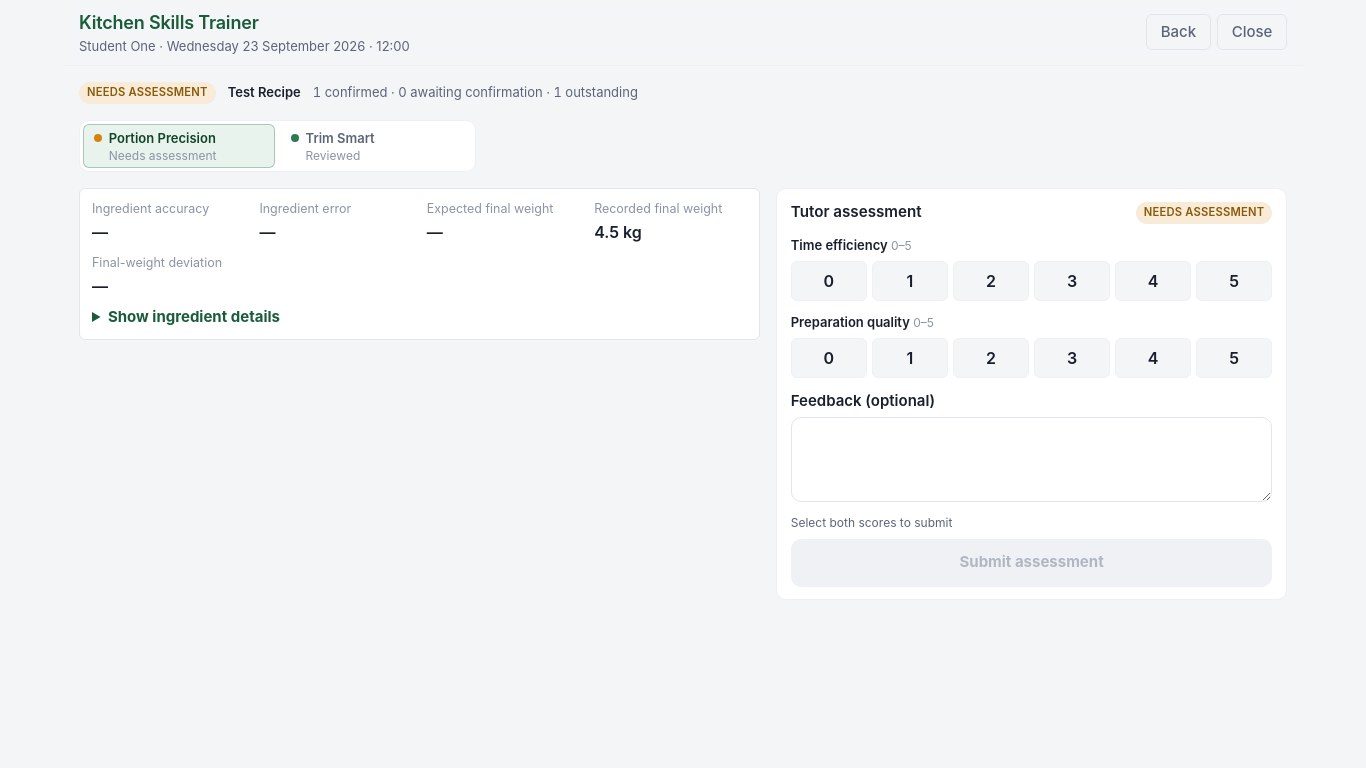
Scenario: Kitchen Day module chef review › shows an existing review read-only instead of creating another
This screenshot has width=1366, height=768.
Check: the element with test id "kitchen-day-review-portionPrecision-form" is shown, box [776, 188, 1287, 600]
Click the tab with test id "kitchen-day-tutor-module-tab-trimSmart" at (376, 146), box [280, 124, 472, 168]
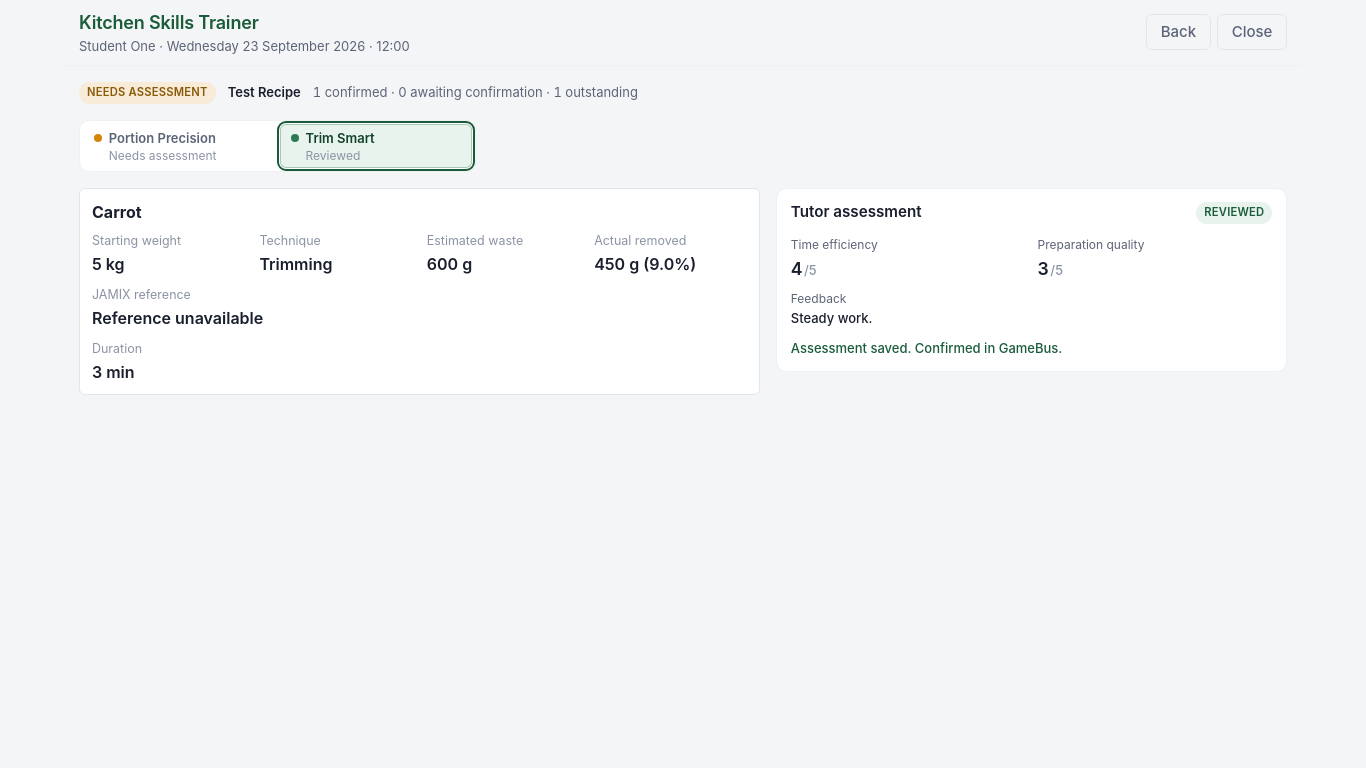
Check: the text with test id "kitchen-day-review-time-value" reads "4", box [791, 258, 802, 279]
Check: the text with test id "kitchen-day-review-feedback-value" reads "Steady work.", box [791, 310, 872, 326]
